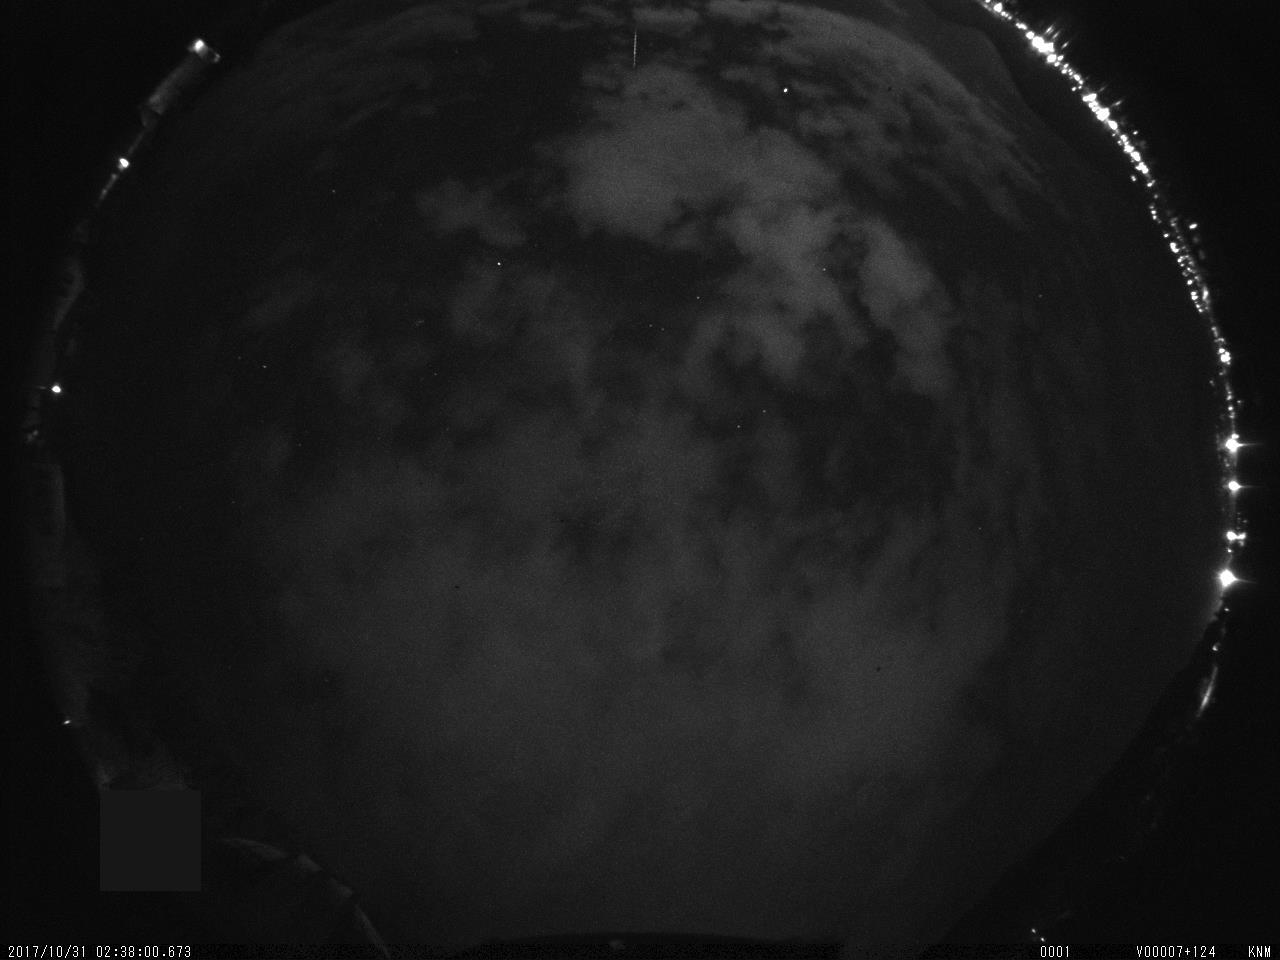meteor: (607, 7, 667, 88)
